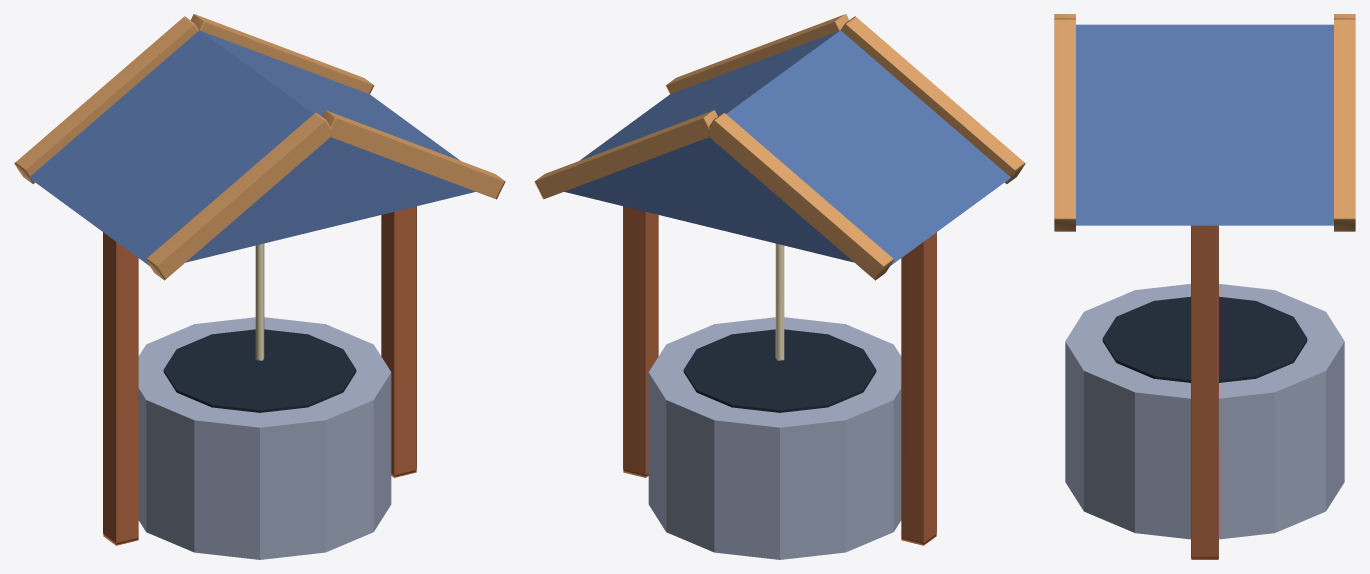
The model's file is village_well.glb.
3 renders of one model, left to right at view 1: azimuth 30°, elevation 25°; view 2: azimuth 150°, elevation 25°; view 3: azimuth 270°, elevation 25°, orthographic. The views are drawn at different scales.
Parts seen in each view (by area): view 1: Pitched roof.011, Well ring, Dark water, Well post, Well post.001, Roof trim.044, Roof trim.046, Roof trim.045, Roof trim.047, Bucket rope; view 2: Pitched roof.011, Well ring, Dark water, Well post, Well post.001, Roof trim.046, Roof trim.044, Roof trim.047, Roof trim.045, Bucket rope; view 3: Pitched roof.011, Well ring, Dark water, Well post.001, Roof trim.045, Roof trim.047.
Part boxes in pixels (x1,y1,x2,y2): Pitched roof.011: (29,30,475,265); Well ring: (138,317,391,559); Dark water: (163,329,356,412); Well post: (103,232,138,545); Well post.001: (381,206,416,477); Roof trim.044: (146,112,333,280); Roof trim.046: (14,16,198,183); Roof trim.045: (322,110,505,199); Roof trim.047: (191,14,374,94); Bucket rope: (255,243,264,360); Pitched roof.011: (564,30,1010,265); Well ring: (648,317,901,559); Dark water: (683,329,876,412); Well post: (901,232,936,545); Well post.001: (623,206,658,477); Roof trim.046: (707,112,893,280); Roof trim.044: (841,16,1025,183); Roof trim.047: (534,110,717,199); Roof trim.045: (665,14,848,94); Bucket rope: (775,243,784,360); Pitched roof.011: (1076,24,1333,225); Well ring: (1065,284,1344,539); Dark water: (1102,296,1307,382); Well post.001: (1191,225,1218,559); Roof trim.045: (1054,18,1075,231); Roof trim.047: (1334,18,1355,231).
Bounding box in the file's own units: 2.77 × 3.31 × 1.94.
